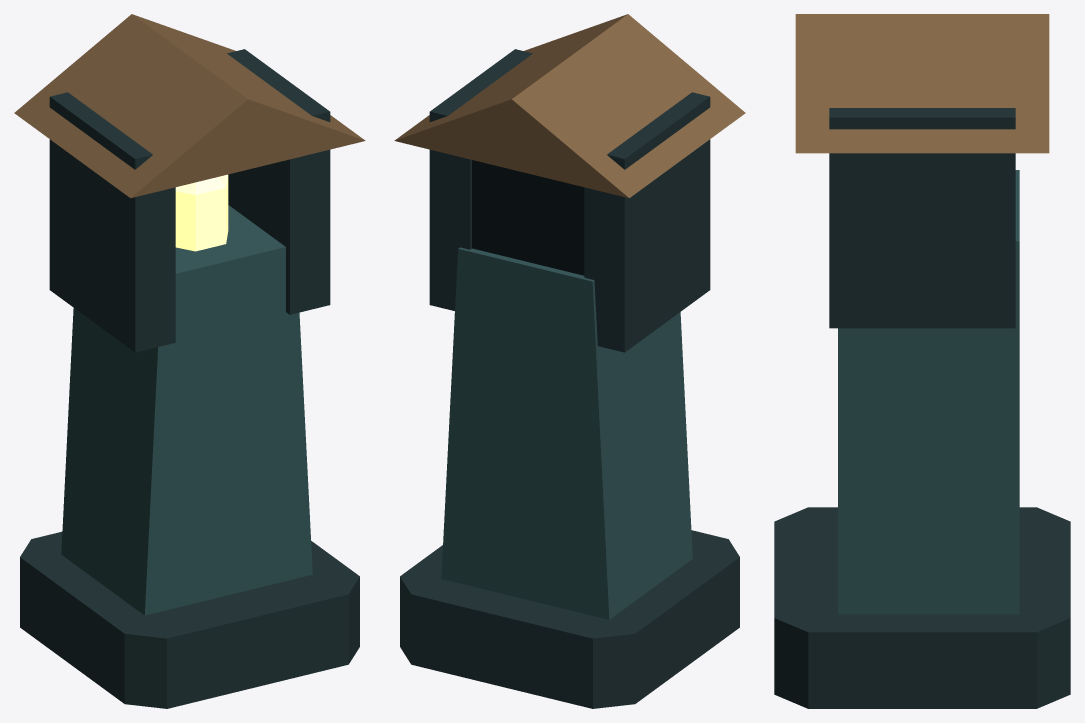
File: votive.glb
3 views of the same model, side by side, from view 1: azimuth 30°, elevation 25°; view 2: azimuth 150°, elevation 25°; view 3: azimuth 270°, elevation 25° (orthographic). The views are drawn at different scales.
Visible parts, largest first — view 1: body; view 2: body; view 3: body.
Boxes of the visible parts, box(x1,y1,x2,y2) form: body: box(14, 14, 365, 708); body: box(394, 14, 745, 708); body: box(774, 14, 1070, 708).
Size of the model in its own units: 0.7 by 1.65 by 0.7.
